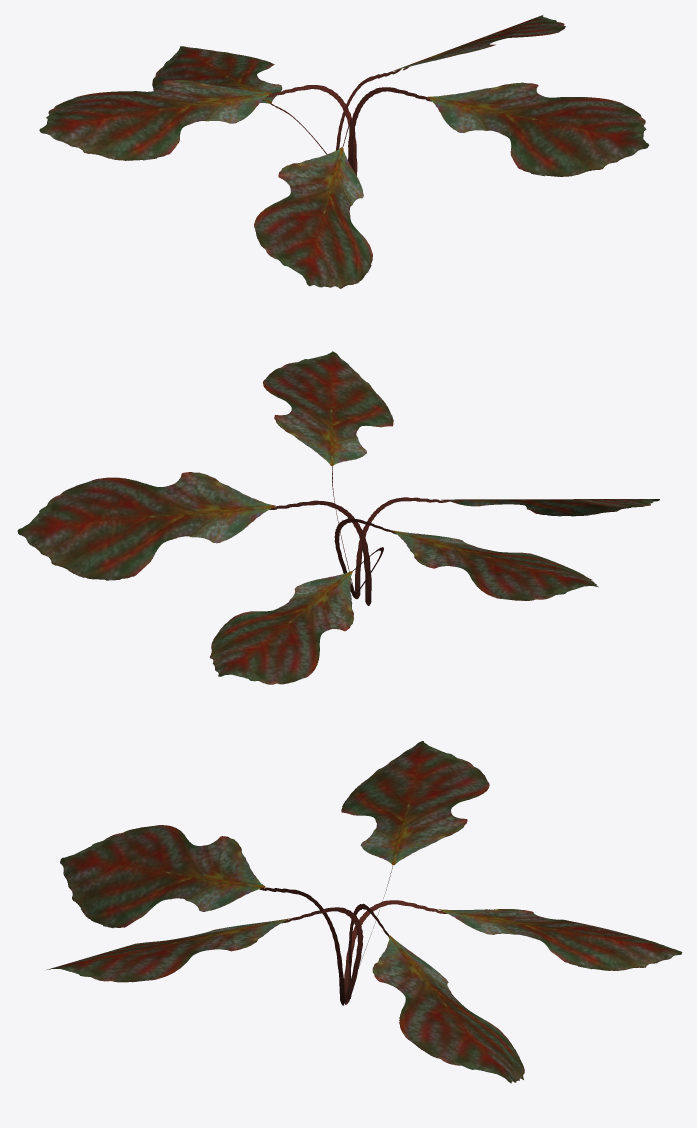
The model's file is Row Root D2.fbx.
3 renders of one model, top to bottom at view 1: azimuth 30°, elevation 25°; view 2: azimuth 150°, elevation 25°; view 3: azimuth 270°, elevation 25°, orthographic. The views are drawn at different scales.
Visible parts, largest first — view 1: Row Root D2; view 2: Row Root D2; view 3: Row Root D2.
Part boxes in pixels (box(x1,y1,x2,y2)): Row Root D2: box(39, 15, 649, 288); Row Root D2: box(17, 351, 659, 684); Row Root D2: box(47, 741, 682, 1083).
Bounding box in the file's own units: 240 × 51.9 × 220.
